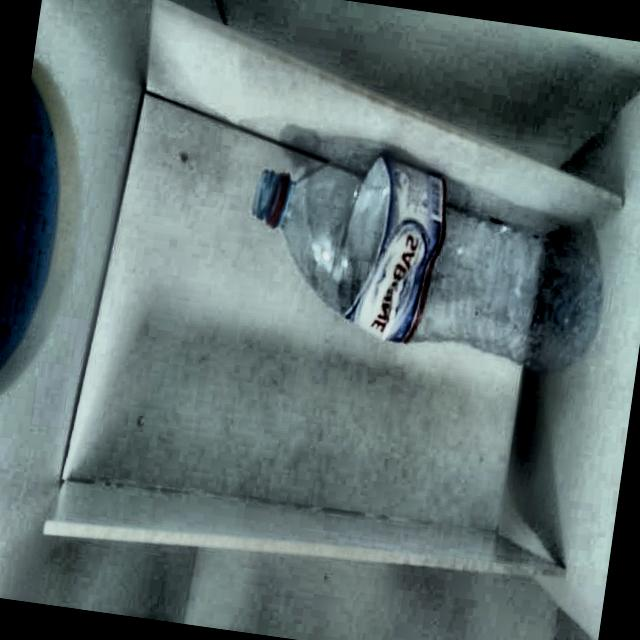plastic bottle: (252, 155, 602, 370)
